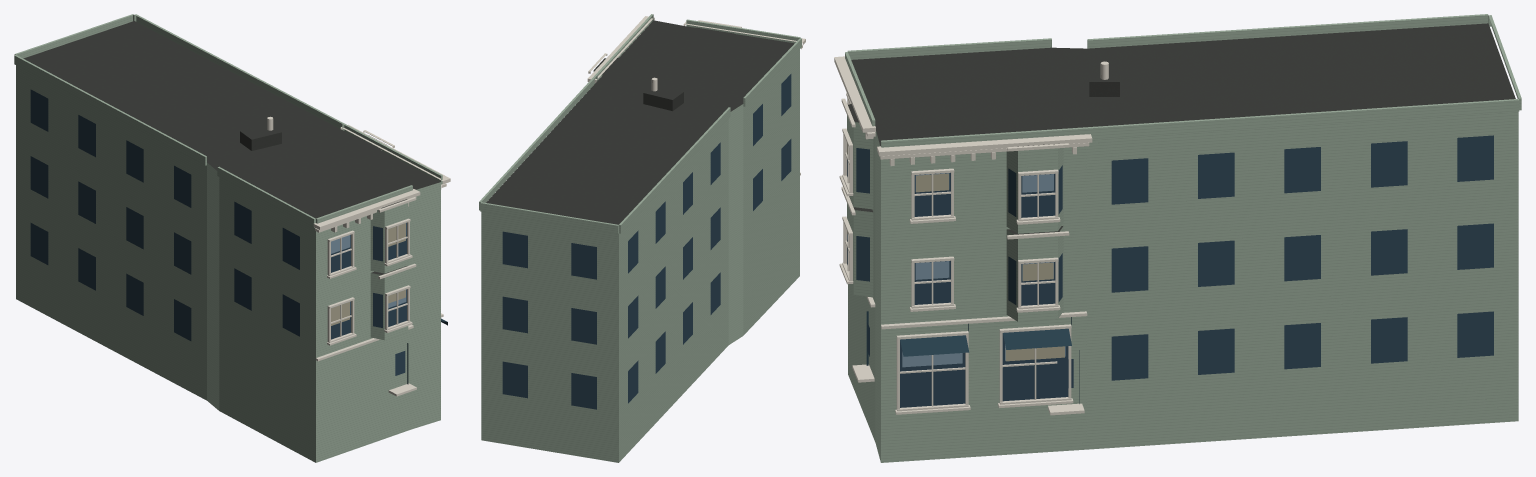
The picture shows the model from 3 angles, left to right: view 1: azimuth 30°, elevation 25°; view 2: azimuth 150°, elevation 25°; view 3: azimuth 270°, elevation 25°; orthographic projection. The views are drawn at different scales.
Parts seen in each view (by area): view 1: Footprint 0 / surface 2, Footprint 0 / surface 1, Inset glazing, Facade bay volumes, Cornices and window frames, Interior blind variation; view 2: Footprint 0 / surface 2, Footprint 0 / surface 1, Inset glazing, Facade bay volumes, Cornices and window frames, Inferred rooftop service enclosure / surface 6; view 3: Footprint 0 / surface 2, Footprint 0 / surface 1, Inset glazing, Facade bay volumes, Cornices and window frames, Storefronts and doors, Sky reflection panels, Interior blind variation.
Part boxes in pixels (box(x1,y1,x2,y2)): Footprint 0 / surface 2: box(16, 65, 440, 462); Footprint 0 / surface 1: box(23, 21, 440, 218); Inset glazing: box(30, 89, 406, 375); Facade bay volumes: box(14, 14, 442, 340); Cornices and window frames: box(313, 124, 450, 396); Interior blind variation: box(331, 223, 405, 325); Footprint 0 / surface 2: box(481, 49, 799, 462); Footprint 0 / surface 1: box(486, 20, 794, 224); Inset glazing: box(502, 74, 791, 409); Facade bay volumes: box(479, 14, 801, 234); Cornices and window frames: box(587, 16, 805, 175); Inferred rooftop service enclosure / surface 6: box(643, 93, 672, 110); Footprint 0 / surface 2: box(848, 111, 1518, 462); Footprint 0 / surface 1: box(851, 23, 1515, 146); Inset glazing: box(847, 135, 1493, 407); Facade bay volumes: box(845, 14, 1521, 321); Cornices and window frames: box(834, 56, 1092, 415); Storefronts and doors: box(866, 311, 1079, 403); Sky reflection panels: box(847, 173, 1065, 367); Interior blind variation: box(847, 143, 1064, 361).
Size of the model in its own units: 12.62 by 14.84 by 26.84.
